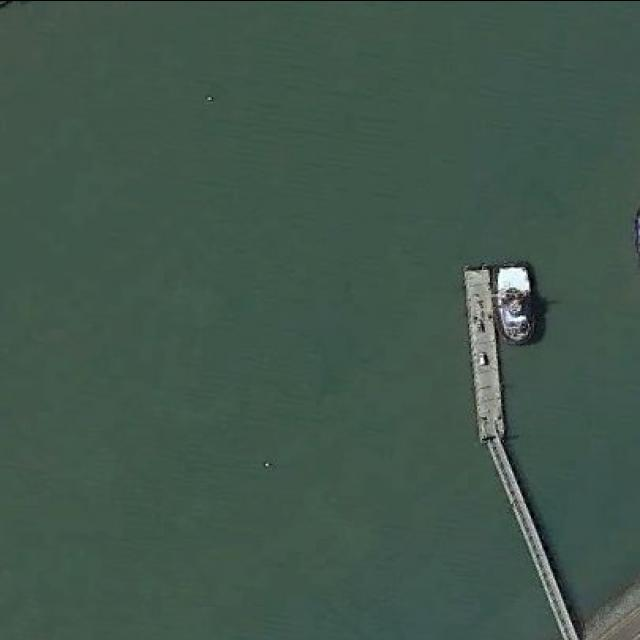ship: (492, 258, 540, 347)
